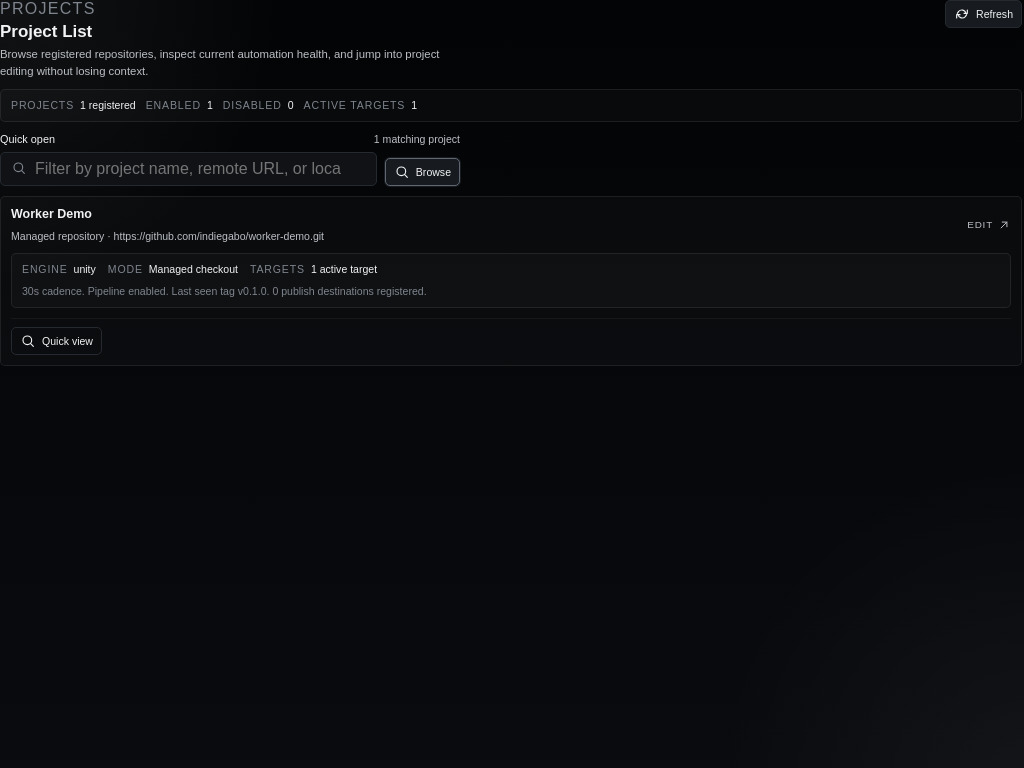
Test: ProjectsFocusScreen › opens the quick-open picker and returns the selected project
What coordinates should you click on to do the following:
click the button "Browse"
I would click on:
 (422, 172)
Its box is x1=385 y1=158 x2=460 y2=186.
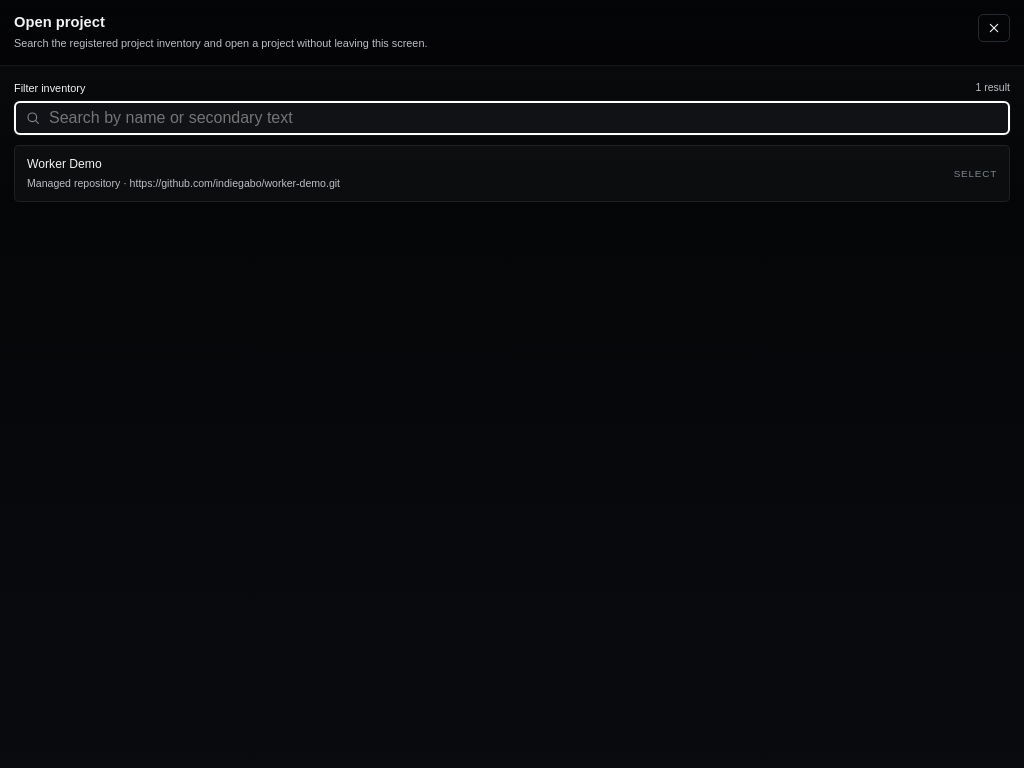
What coordinates should you click on to do the following:
click the button "Worker Demo"
I would click on:
 (64, 164)
Its box is x1=14 y1=145 x2=1010 y2=202.
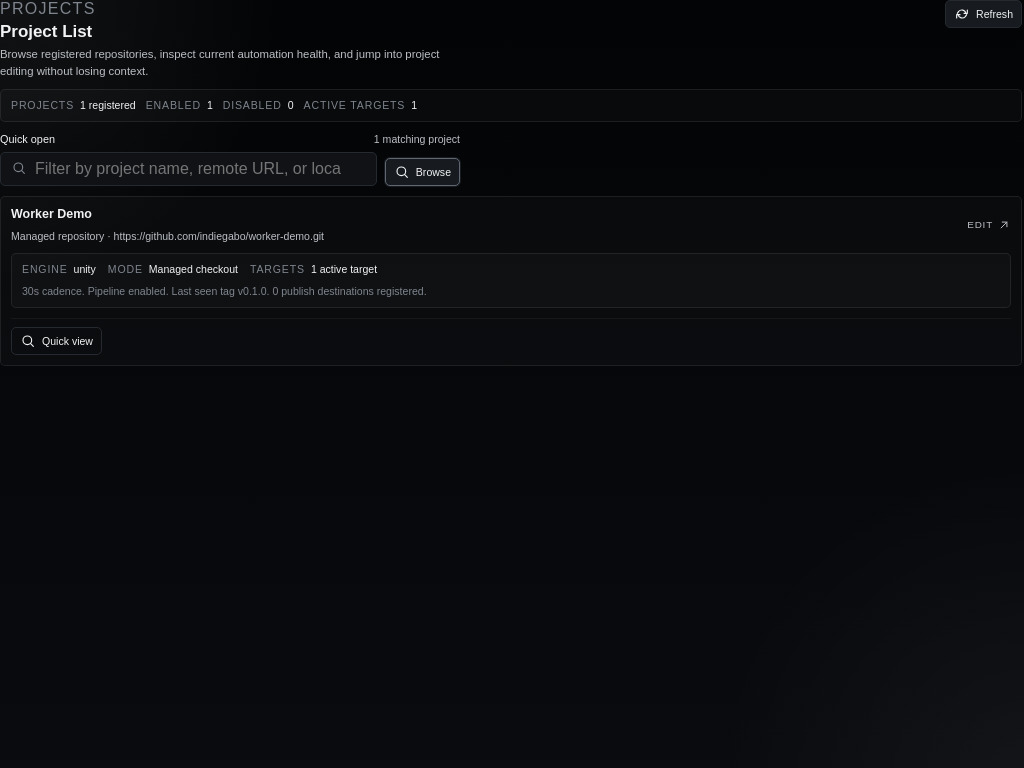
Now the heading "Open project" is gone
